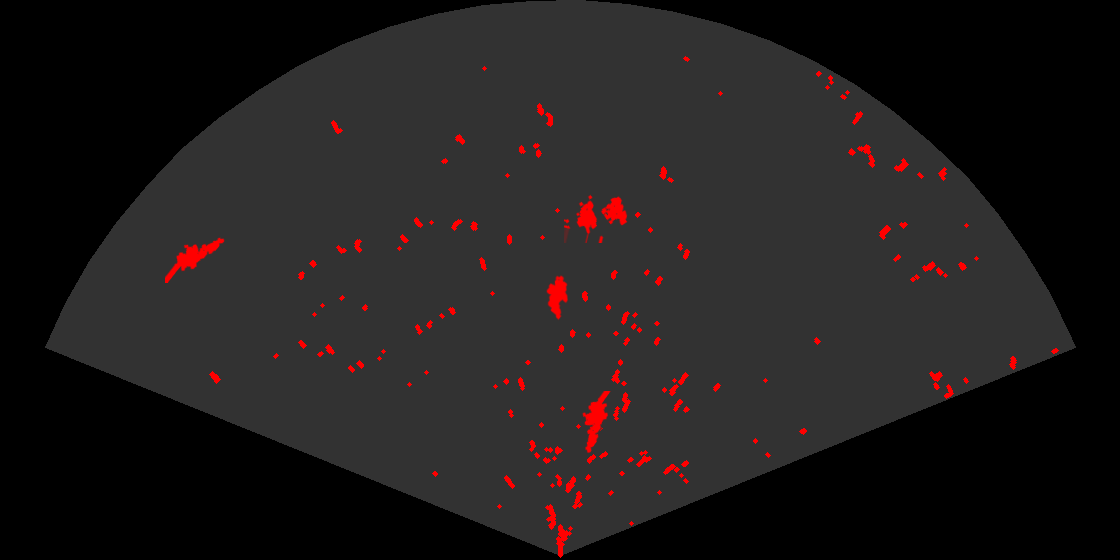AUV: (545, 274, 569, 322)
cage: (564, 193, 629, 243)
frogman: (165, 236, 226, 283), (581, 391, 612, 455)
